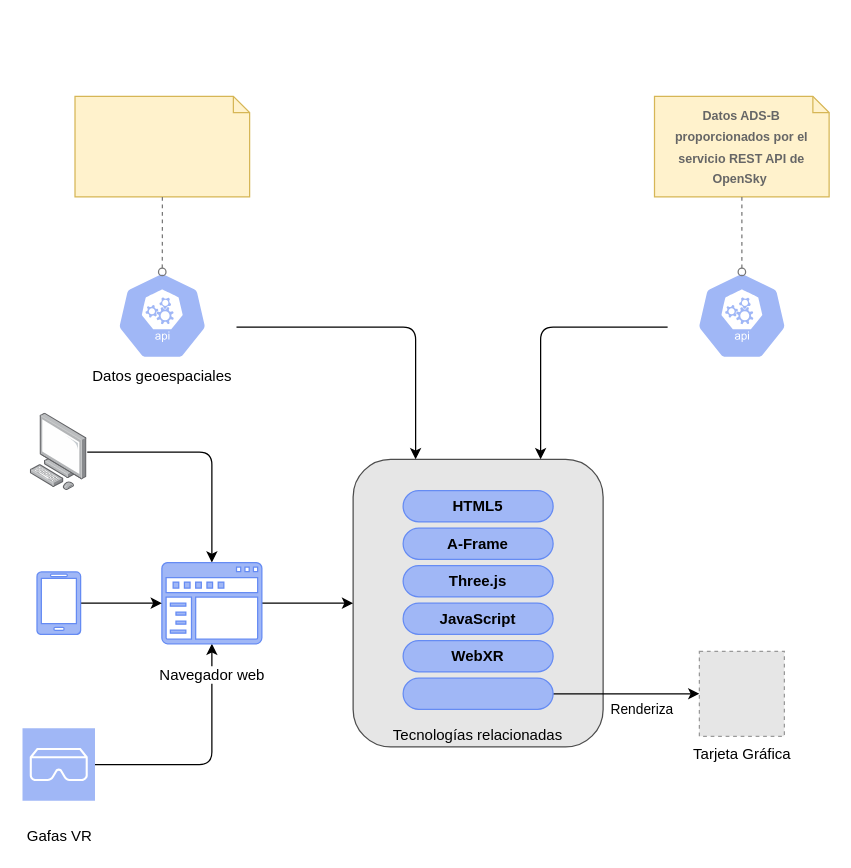
This 851x868 diagram has some shape labels left out. Grey dashed boxes stand in for pictures. The centre of each missing label's shape, as x and y in pixels:
"Datos aeronauticos" belongs at point (741, 315).
"Datos procedentes de servidores de OpenStreeMaps y Copernicus" belongs at point (162, 146).
"Escritorio" belongs at point (58, 451).
"Movil" belongs at point (58, 602).
"WebGL" belongs at point (477, 693).
